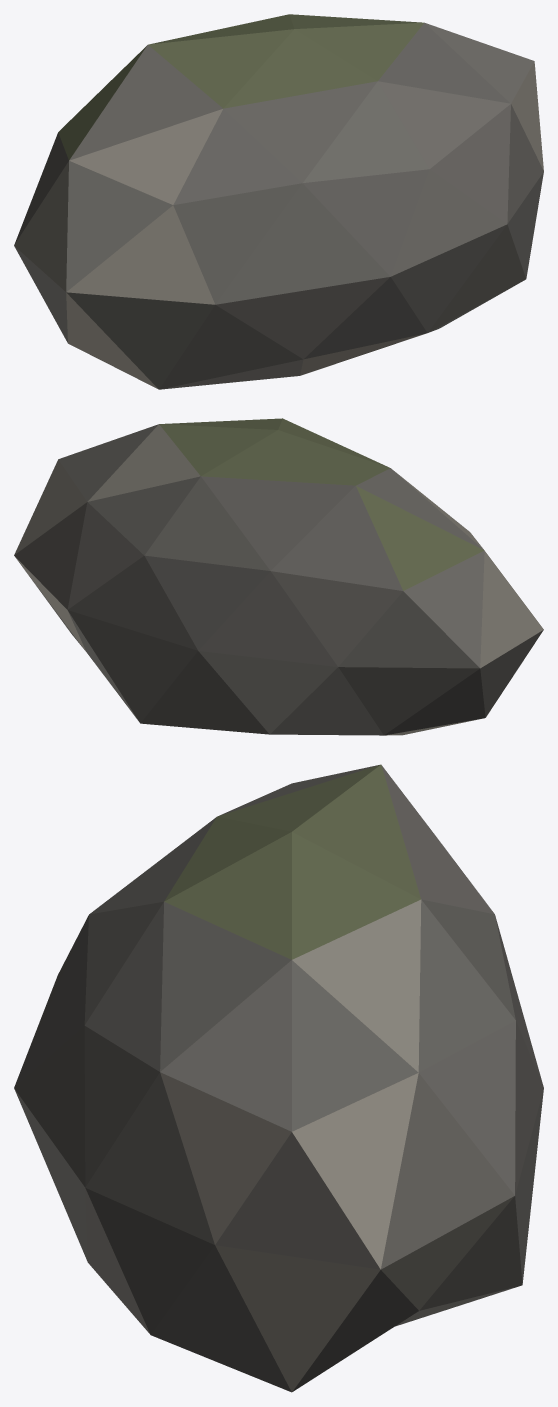
The model's file is E6_rock_c.glb.
3 renders of one model, top to bottom at view 1: azimuth 30°, elevation 25°; view 2: azimuth 150°, elevation 25°; view 3: azimuth 270°, elevation 25°, orthographic. The views are drawn at different scales.
Parts seen in each view (by area): view 1: E6_rock_c; view 2: E6_rock_c; view 3: E6_rock_c.
Part boxes in pixels (x1,y1,x2,y2): E6_rock_c: (14, 14, 543, 389); E6_rock_c: (14, 418, 543, 735); E6_rock_c: (14, 764, 543, 1392).
Bounding box in the file's own units: 1.06 × 0.6 × 0.6535.
